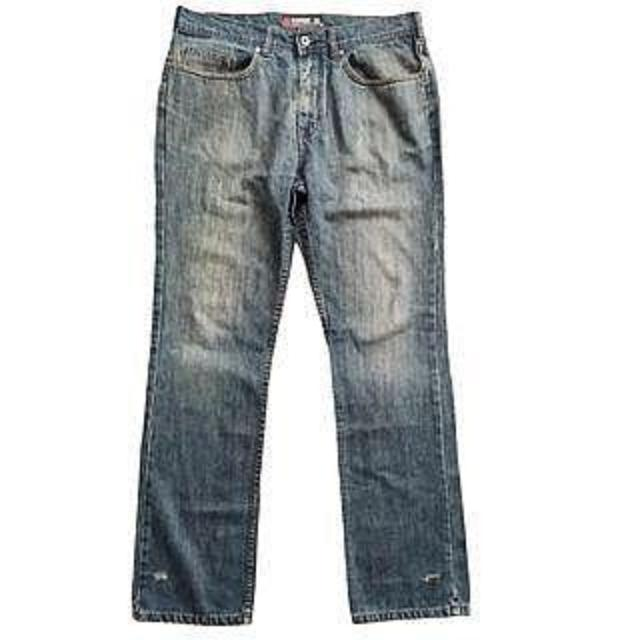TROUSER: (119, 2, 481, 634)
